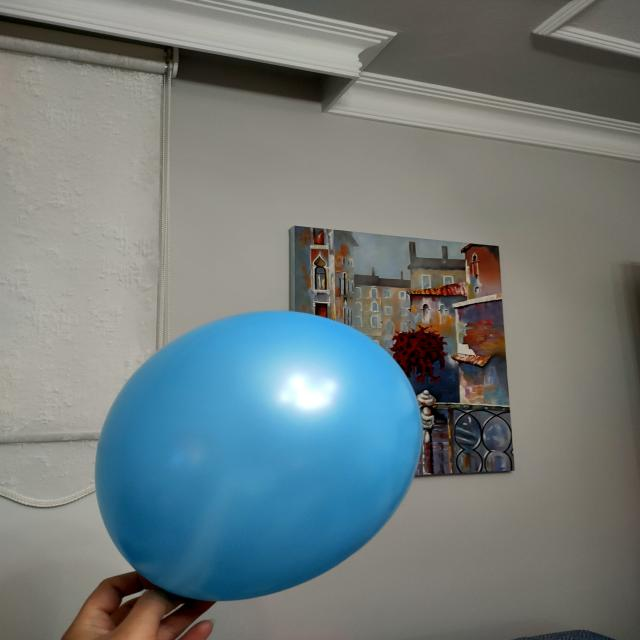blue: (100, 312, 424, 612)
